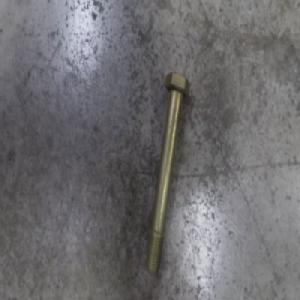Bolt: (143, 71, 190, 276)
